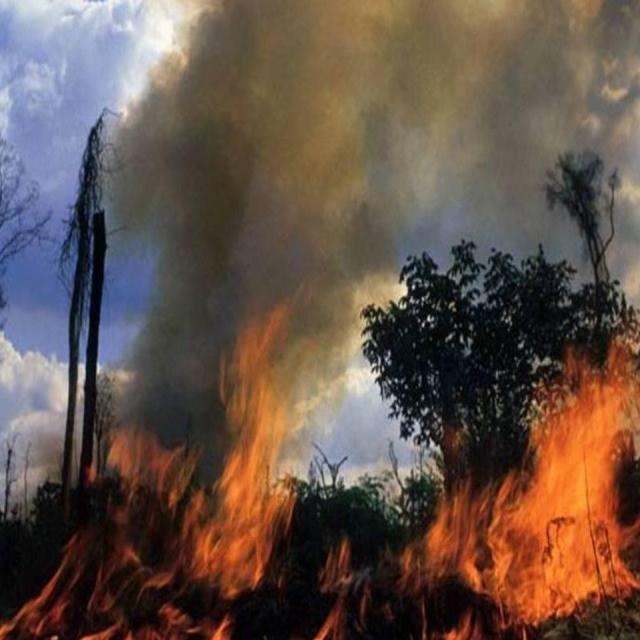Fire: (22, 321, 292, 639), (410, 304, 634, 638), (313, 521, 443, 634)
Smoke: (102, 6, 640, 270)
